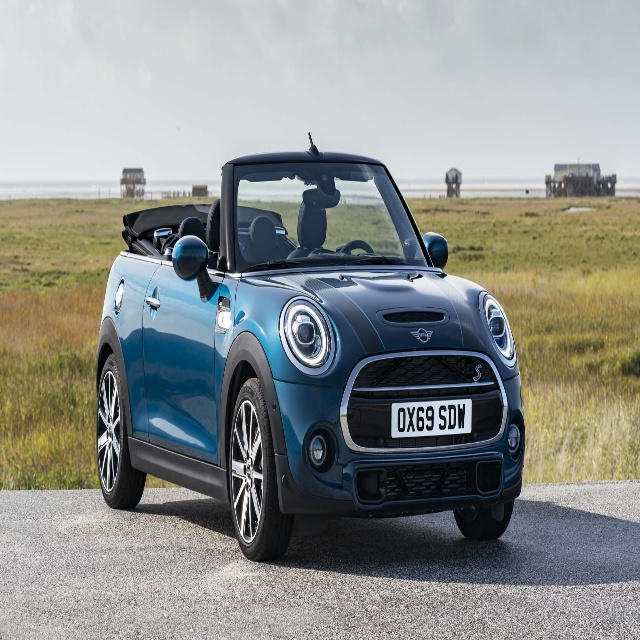Car: (96, 150, 525, 562)
